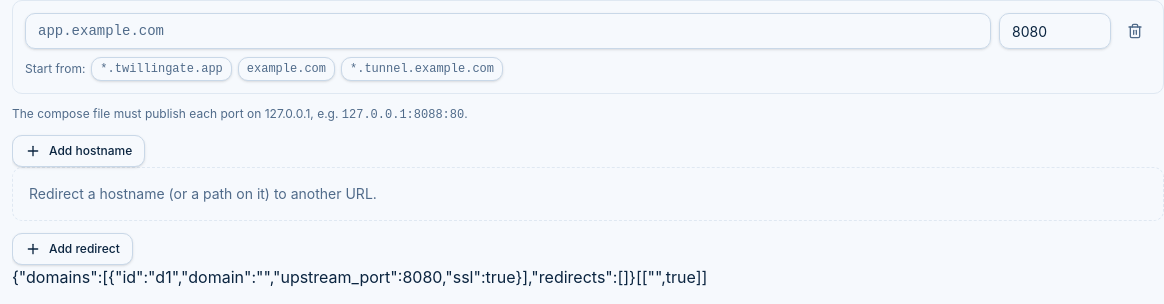
Test: ingress rows › explains an uncovered hostname with a link to the Domains tab
Type "shop.other.app" into the field named "Hostname". click: coordinates (508, 31)
box: [25,13,991,49]
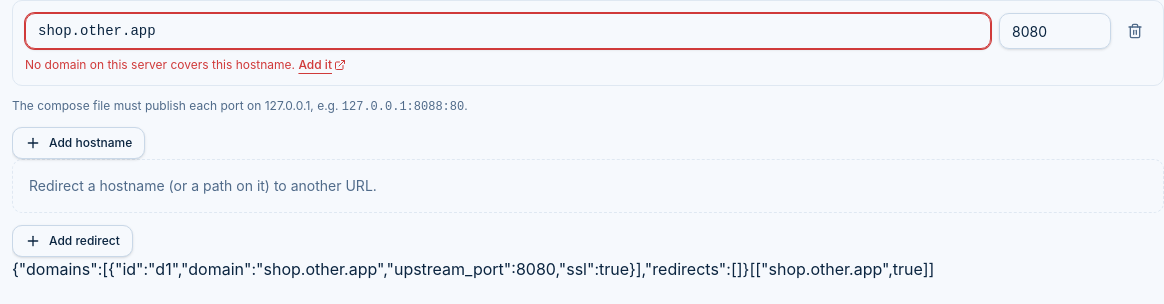
Expected: the field named "Hostname" has class "border-destructive", [25,13,991,49]
# Removing the row drops it and its hint.
Click the button named "Remove shop.other.app". click: coordinates (1135, 31)
box: [1119,15,1151,47]
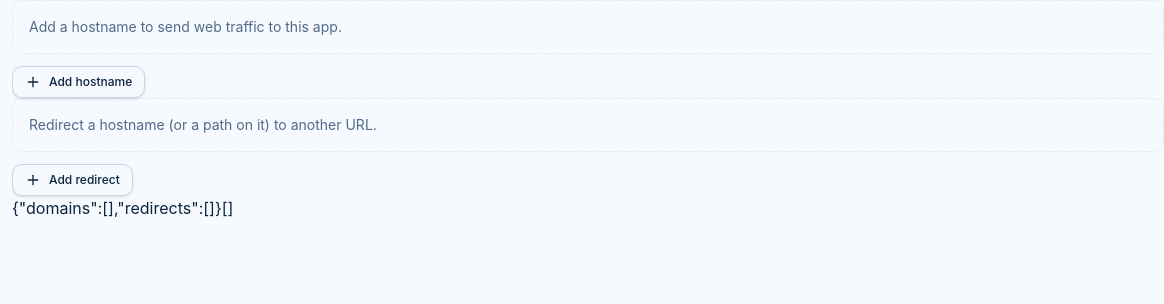
Expected: the text "No domain on this server covers" is gone
Expected: the text "Add a hostname to send web traffic to this app." is shown, [12,0,1163,54]
